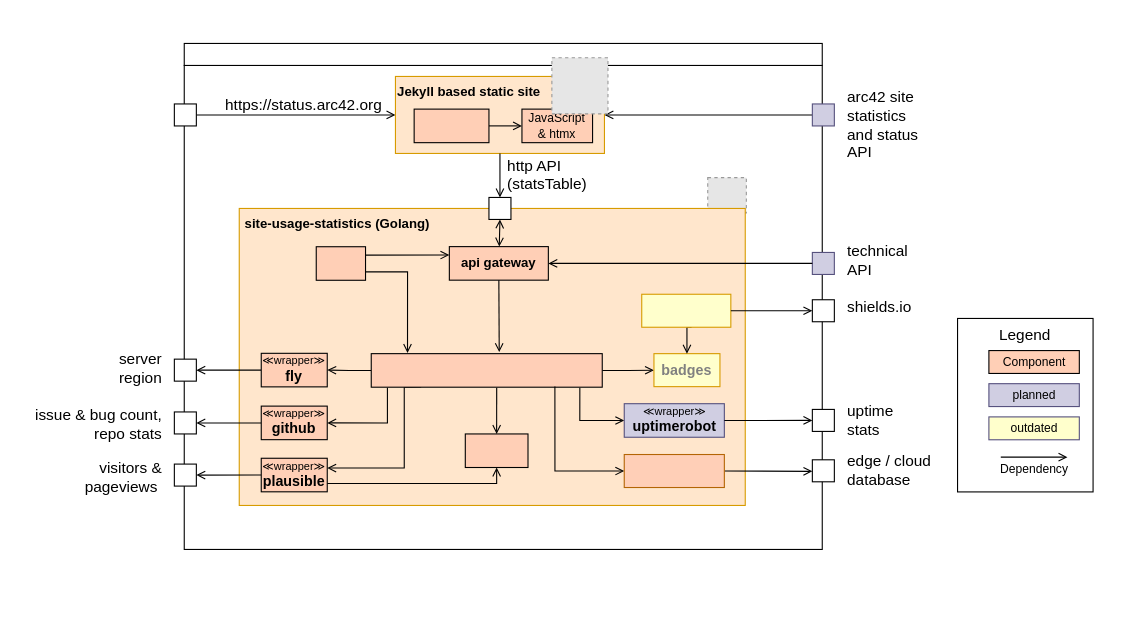
The diagram is 1126 pixels wide and 634 high, and some of its shapes have lost their labels. Grey dashed boxes stand in for pictures. Here are the shapes that lost their labels. From the top down, the centre of each, then its label:
At pixel 502 53: "status.arc42.org".
At pixel 451 125: "Markdown / HTML".
At pixel 340 263: "main".
At pixel 686 310: "badge pre-loader".
At pixel 486 370: "domain".
At pixel 496 450: "types".
At pixel 673 470: "≪wrapper≫ database".
